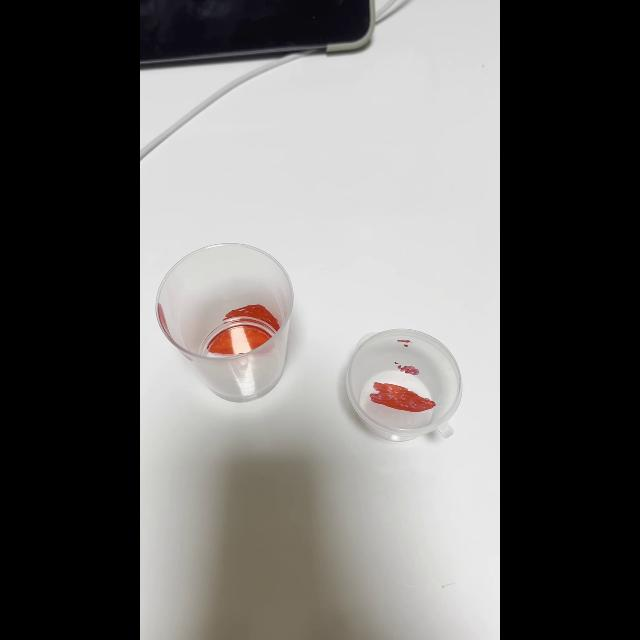dirty: (157, 245, 295, 400), (346, 330, 462, 440)
